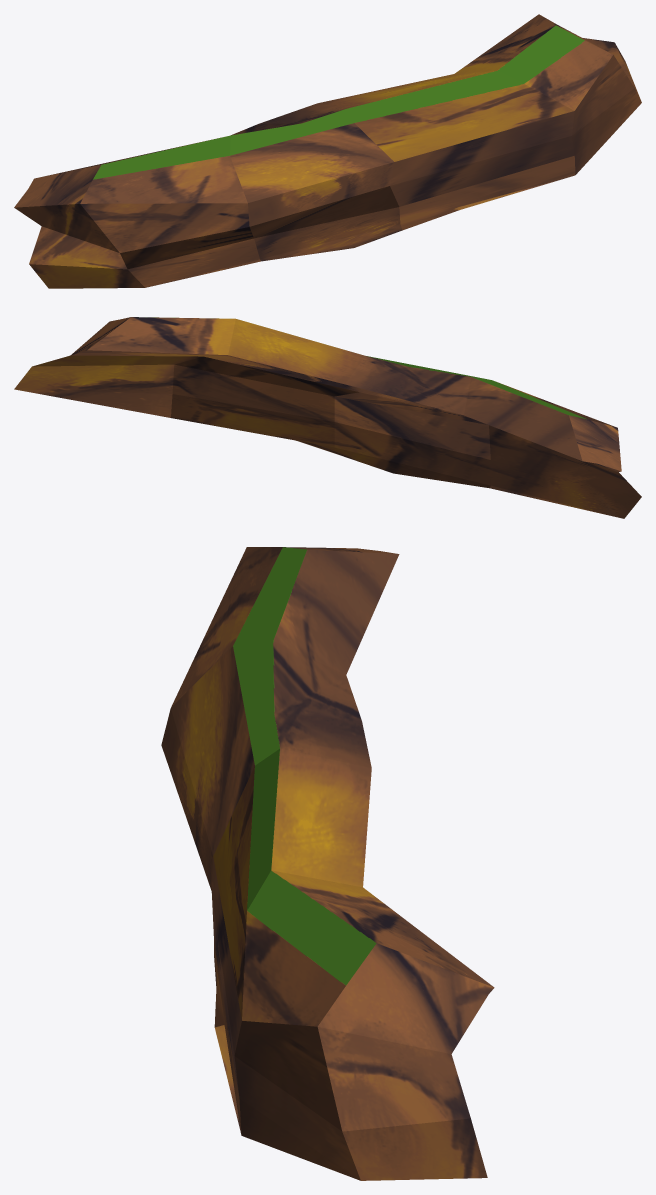
File: sali34.obj
The picture shows the model from 3 angles, top to bottom: view 1: azimuth 30°, elevation 25°; view 2: azimuth 150°, elevation 25°; view 3: azimuth 270°, elevation 25°; orthographic projection. The views are drawn at different scales.
Parts seen in each view (by area): view 1: Cube.004; view 2: Cube.004; view 3: Cube.004.
Boxes of the visible parts, x1=… form: Cube.004: x1=14, y1=14, x2=641, y2=288; Cube.004: x1=14, y1=317, x2=641, y2=518; Cube.004: x1=161, y1=547, x2=494, y2=1180.
Size of the model in its own units: 289 by 54.54 by 72.1.
Materials: 1 (1 with a texture image).
